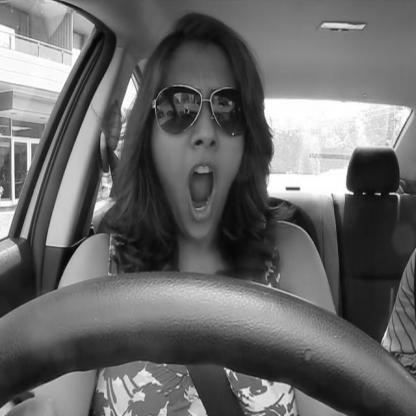seatbelt: (98, 9, 284, 416)
